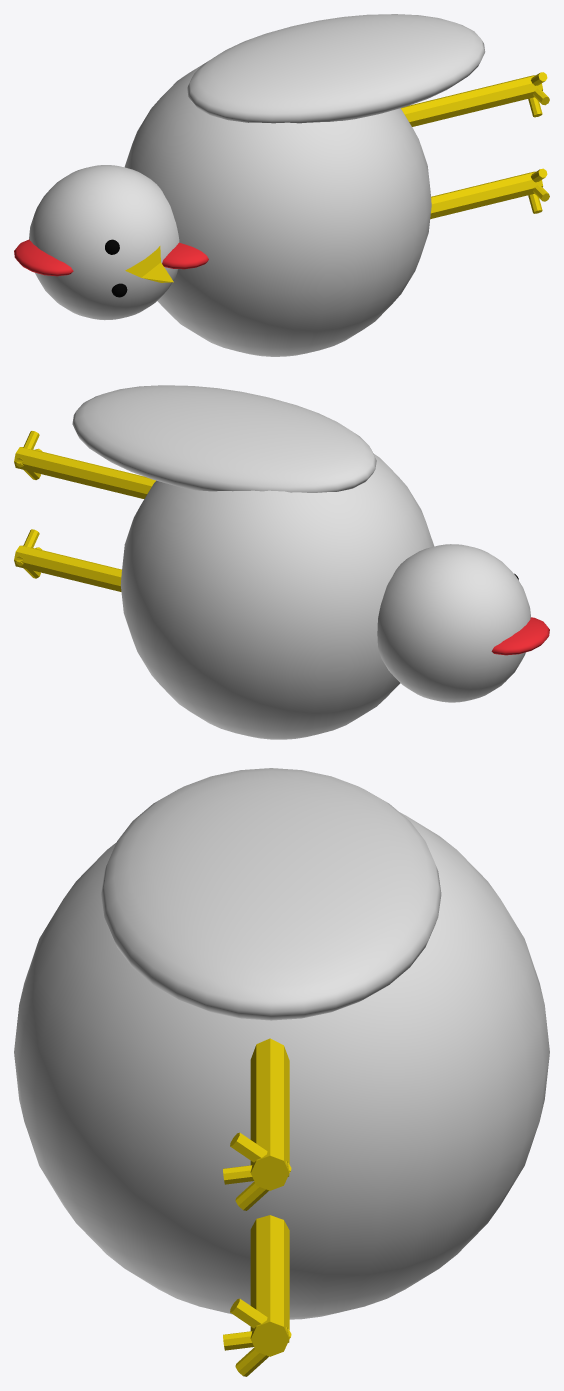
File: coop chicken.fbx
The picture shows the model from 3 angles, top to bottom: view 1: azimuth 30°, elevation 25°; view 2: azimuth 150°, elevation 25°; view 3: azimuth 270°, elevation 25°; orthographic projection. The views are drawn at different scales.
Parts seen in each view (by area): view 1: Sphere, Sphere.002, Sphere.001, Cylinder, Cylinder.004, Sphere.006, Sphere.003, Cube.004; view 2: Sphere, Sphere.002, Sphere.001, Cylinder, Cylinder.004, Sphere.006; view 3: Sphere, Sphere.002, Cylinder, Cylinder.004.
Boxes of the visible parts, left/top/right/bottom form: Sphere: left=124, top=64, right=431, bottom=356; Sphere.002: left=187, top=14, right=485, bottom=123; Sphere.001: left=29, top=165, right=179, bottom=320; Cylinder: left=401, top=75, right=542, bottom=126; Cylinder.004: left=430, top=171, right=542, bottom=218; Sphere.006: left=14, top=239, right=73, bottom=276; Sphere.003: left=162, top=242, right=208, bottom=269; Cube.004: left=125, top=246, right=173, bottom=282; Sphere: left=120, top=453, right=434, bottom=739; Sphere.002: left=72, top=385, right=376, bottom=492; Sphere.001: left=377, top=544, right=530, bottom=702; Cylinder: left=14, top=447, right=155, bottom=498; Cylinder.004: left=14, top=545, right=121, bottom=591; Sphere.006: left=491, top=617, right=549, bottom=655; Sphere: left=14, top=812, right=549, bottom=1319; Sphere.002: left=101, top=768, right=441, bottom=1020; Cylinder: left=250, top=1038, right=289, bottom=1190; Cylinder.004: left=250, top=1215, right=289, bottom=1356.
Size of the model in its own units: 316 by 168 by 166.
